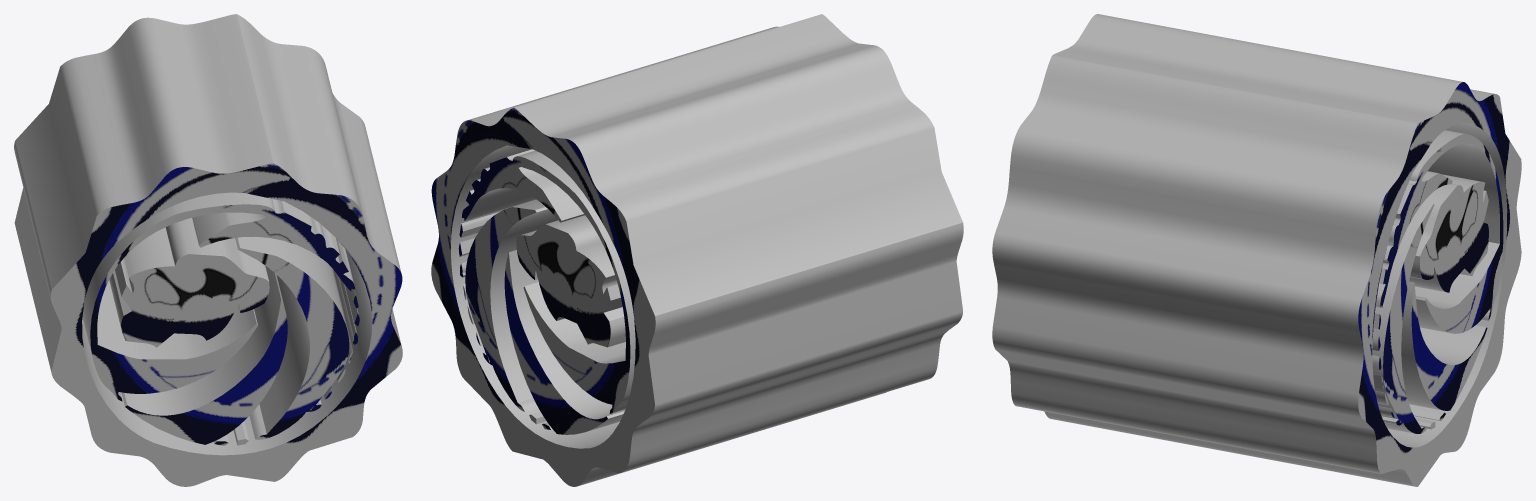
3 views of the same model, side by side, from view 1: azimuth 30°, elevation 25°; view 2: azimuth 150°, elevation 25°; view 3: azimuth 270°, elevation 25° (orthographic). The views are drawn at different scales.
Visible parts, largest first — view 1: Layer 1; view 2: Layer 1; view 3: Layer 1.
Part boxes in pixels (bbox=[...]): Layer 1: bbox=[14, 14, 402, 486]; Layer 1: bbox=[431, 14, 963, 486]; Layer 1: bbox=[992, 14, 1521, 486].
Size of the model in its own units: 0.3672 by 0.2787 by 0.3666.
3 materials, 3 textured.
